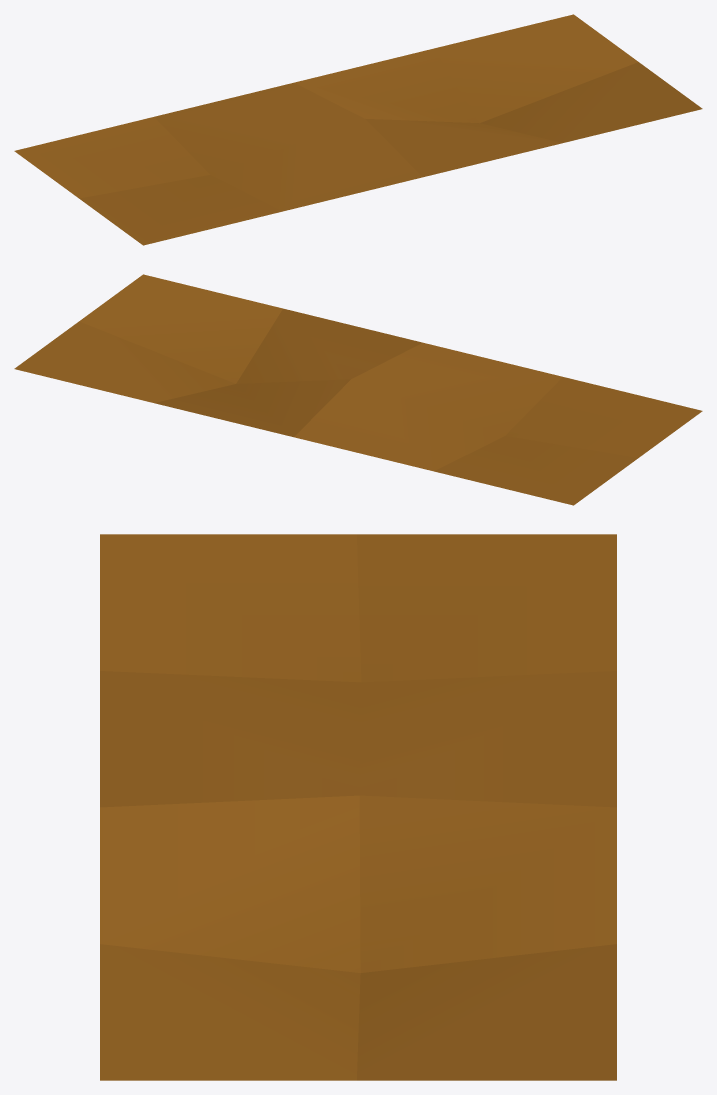
The model's file is cGround_B_Under_3_.fbx.
3 views of the same model, one above another, from view 1: azimuth 30°, elevation 25°; view 2: azimuth 150°, elevation 25°; view 3: azimuth 270°, elevation 25° (orthographic). The views are drawn at different scales.
Parts seen in each view (by area): view 1: cGround_B_Under_3; view 2: cGround_B_Under_3; view 3: cGround_B_Under_3.
Part boxes in pixels (x1,y1,x2,y2): cGround_B_Under_3: (14,14,702,245); cGround_B_Under_3: (14,274,702,505); cGround_B_Under_3: (100,534,616,1080).
Bounding box in the file's own units: 1000 × 55.71 × 400.
